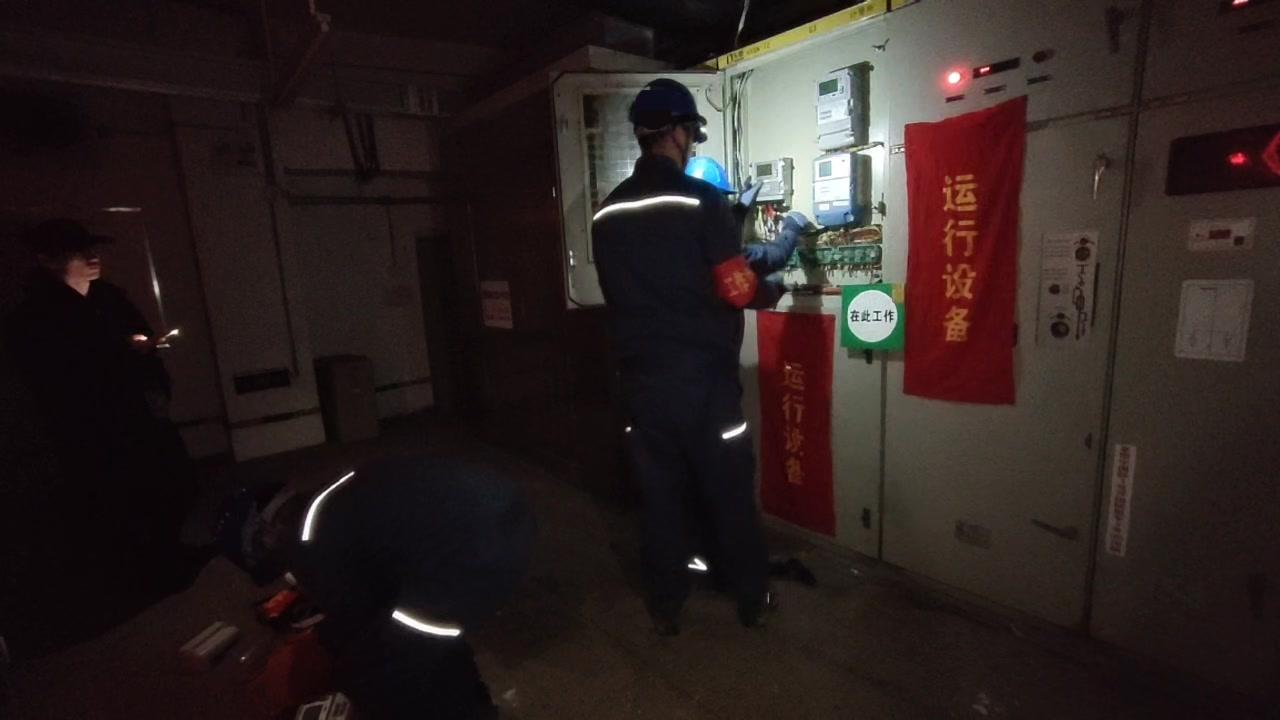halt: (232, 486, 303, 572), (685, 158, 736, 207)
inear: (251, 513, 284, 550), (668, 122, 697, 144)
unhalt: (628, 80, 710, 169), (45, 228, 113, 296)
